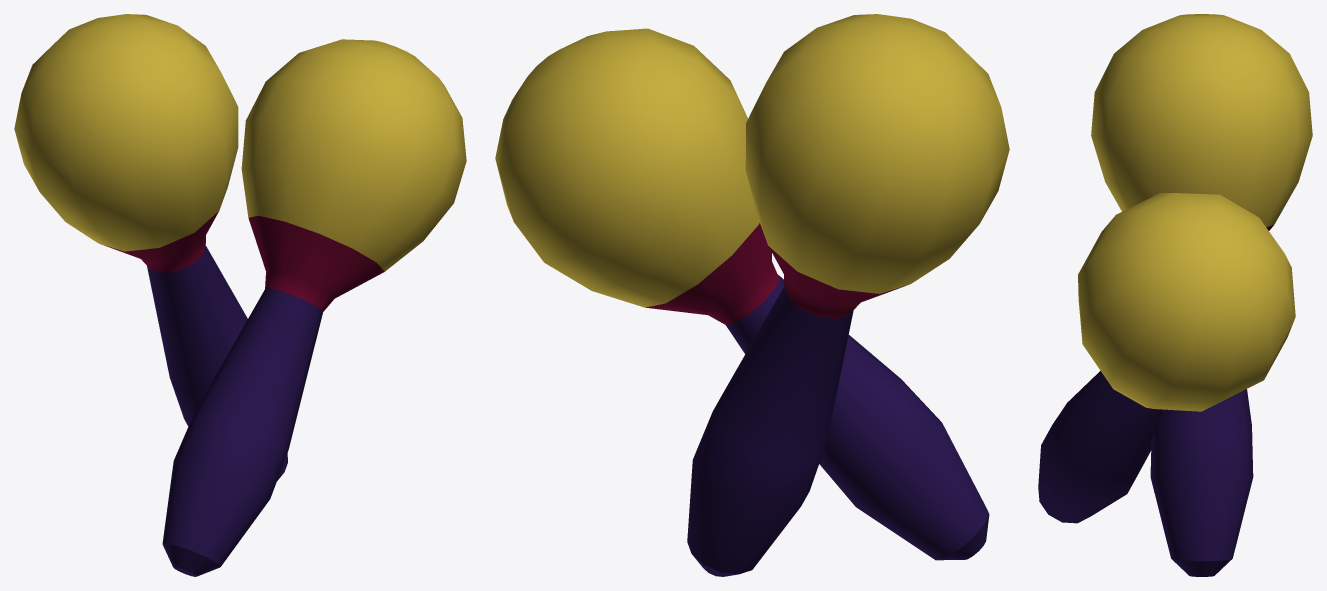
The model's file is Maracas.FBX.
3 views of the same model, side by side, from view 1: azimuth 30°, elevation 25°; view 2: azimuth 150°, elevation 25°; view 3: azimuth 270°, elevation 25° (orthographic). The views are drawn at different scales.
Visible parts, largest first — view 1: Maracas; view 2: Maracas; view 3: Maracas.
Boxes of the visible parts, x1,y1,x2,y2 form: Maracas: (14,14,466,576); Maracas: (495,14,1009,576); Maracas: (1038,14,1312,576).
Bounding box in the file's own units: 921 × 534 × 1059.
